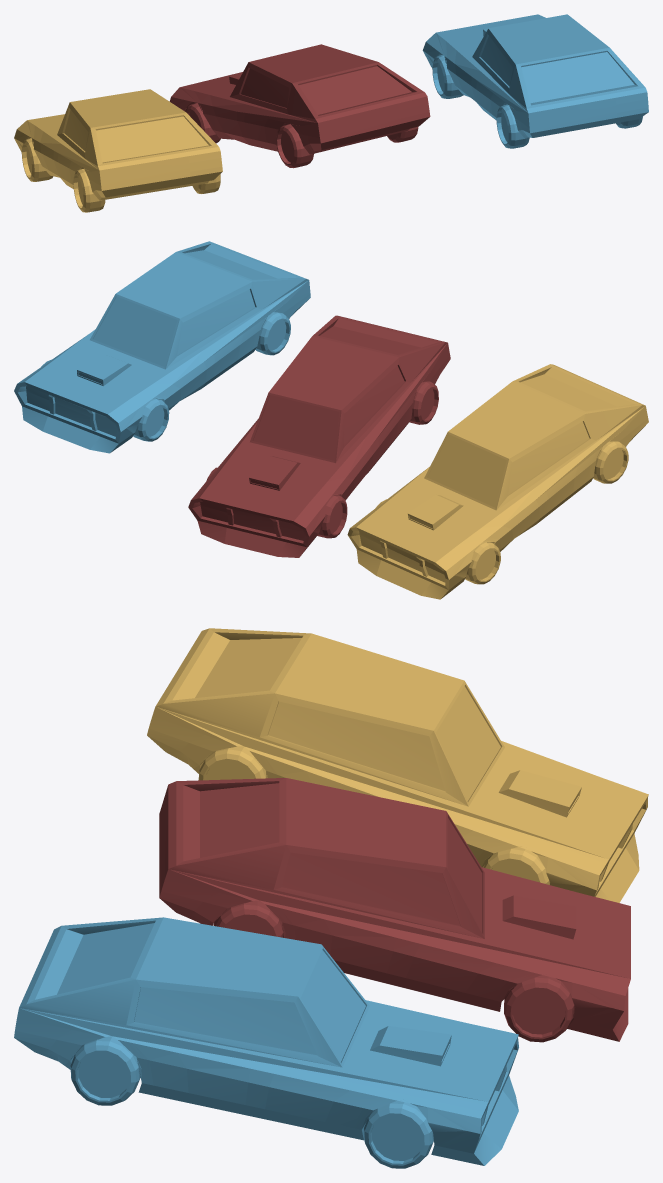
File: auto2 (2).obj
3 views of the same model, one above another, from view 1: azimuth 30°, elevation 25°; view 2: azimuth 150°, elevation 25°; view 3: azimuth 270°, elevation 25° (orthographic). The views are drawn at different scales.
Visible parts, largest first — view 1: auto2 (2), auto2, auto2 (1); view 2: auto2 (1), auto2, auto2 (2); view 3: auto2 (2), auto2, auto2 (1).
Boxes of the visible parts, x1,y1,x2,y2 form: auto2 (2): (422, 14, 648, 148); auto2: (169, 44, 430, 168); auto2 (1): (14, 89, 222, 212); auto2 (1): (347, 364, 648, 599); auto2: (188, 315, 450, 557); auto2 (2): (14, 241, 310, 453); auto2 (2): (14, 917, 518, 1168); auto2: (159, 778, 630, 1042); auto2 (1): (147, 628, 648, 902).
Size of the model in its own units: 31.76 by 7.17 by 20.33.
